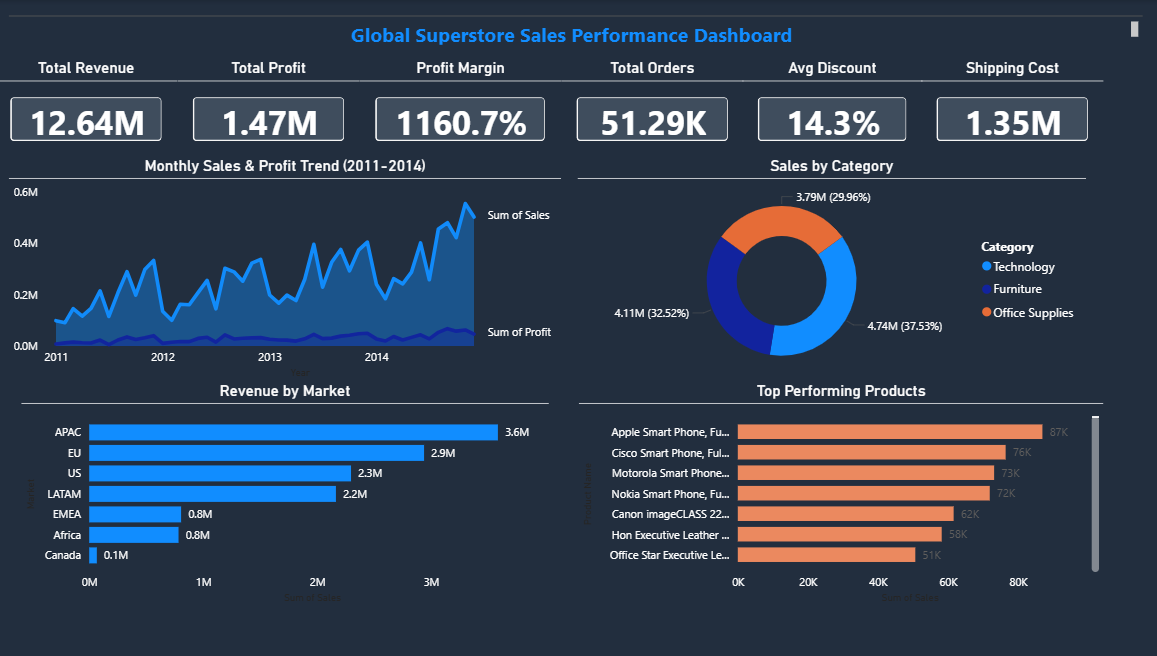

Layout of this report page (visuals, bound fields, positions):
{"tool":"powerbi","page":{"name":"Page 1","canvas":[1280,720],"ordinal":0},"visuals":[{"type":"cardVisual","title":" Total Revenue","fields":{"Data":["Sum(archive (10).Sales)"]},"box":[0,64.5,200.3,107],"z":0},{"type":"cardVisual","title":"Total Profit","fields":{"Data":["Sum(archive (10).Profit)"]},"box":[200.3,64.5,200.3,107],"z":1000},{"type":"cardVisual","title":"Profit Margin","fields":{"Data":["archive (10).Profit Margin"]},"box":[400.7,64.5,220.9,107],"z":2000},{"type":"cardVisual","title":"Total Orders","fields":{"Data":["CountNonNull(archive (10).Order ID)"]},"box":[621.6,64.5,200.3,107],"z":3000},{"type":"cardVisual","title":" Avg Discount","fields":{"Data":["Avg(archive (10).Discount)1"]},"box":[820.6,64.5,197.6,107],"z":4000},{"type":"cardVisual","title":"Shipping Cost","fields":{"Data":["Sum(archive (10).Shipping Cost)"]},"box":[1016.8,64.5,200.3,107],"z":5000},{"type":"lineChart","title":"Monthly Sales & Profit Trend (2011-2014)","fields":{"Y":["Sum(archive (10).Sales)","Sum(archive (10).Profit)"],"Category":["archive (10).Order Date.Variation.Date Hierarchy.Year","archive (10).Order Date.Variation.Date Hierarchy.Month"]},"box":[15.1,171.5,606.5,247],"z":6000},{"type":"donutChart","title":"Sales by Category","fields":{"Y":["Sum(archive (10).Sales)"],"Category":["archive (10).Category"]},"box":[639.5,171.5,558.5,247],"z":7000},{"type":"barChart","title":"Revenue by Market","fields":{"Y":["Sum(archive (10).Sales)"],"Category":["archive (10).Market"]},"box":[28.8,418.5,579.1,247],"z":8000},{"type":"barChart","title":"Top Performing Products","fields":{"Category":["archive (10).Product Name"],"Y":["Sum(archive (10).Sales)"]},"box":[640.8,418.5,576.3,247],"z":9000},{"type":"textbox","box":[15.1,12.3,1244.6,41.2],"z":11000}]}

Visuals, with their boxes in screenshot pixels (x1, y1, x2, y2), scaled from the page's 1280x720 canvas onto the 1157x656 screenshot:
" Total Revenue" cardVisual: bbox(0, 59, 181, 156)
"Total Profit" cardVisual: bbox(181, 59, 362, 156)
"Profit Margin" cardVisual: bbox(362, 59, 562, 156)
"Total Orders" cardVisual: bbox(562, 59, 743, 156)
" Avg Discount" cardVisual: bbox(742, 59, 920, 156)
"Shipping Cost" cardVisual: bbox(919, 59, 1100, 156)
"Monthly Sales & Profit Trend (2011-2014)" lineChart: bbox(14, 156, 562, 381)
"Sales by Category" donutChart: bbox(578, 156, 1083, 381)
"Revenue by Market" barChart: bbox(26, 381, 549, 606)
"Top Performing Products" barChart: bbox(579, 381, 1100, 606)
textbox: bbox(14, 11, 1139, 49)
